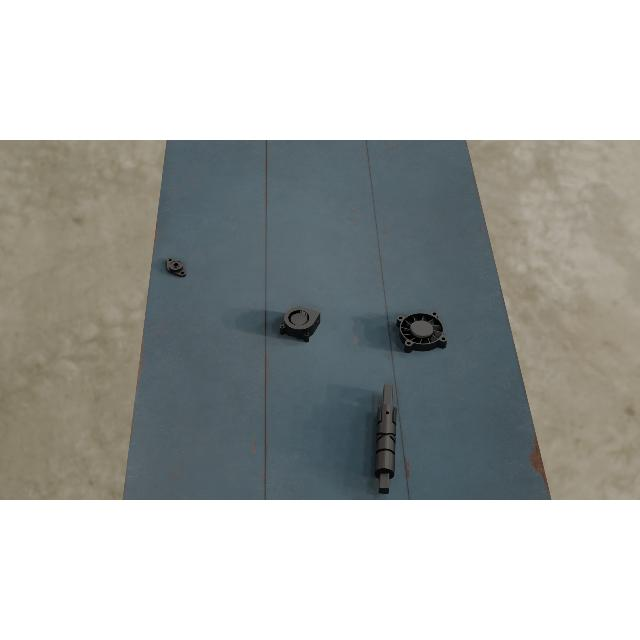Pieza1: (374, 381, 398, 497)
Pieza2: (160, 253, 192, 280)
Pieza3: (278, 304, 322, 344)
Pieza4: (395, 310, 449, 354)
